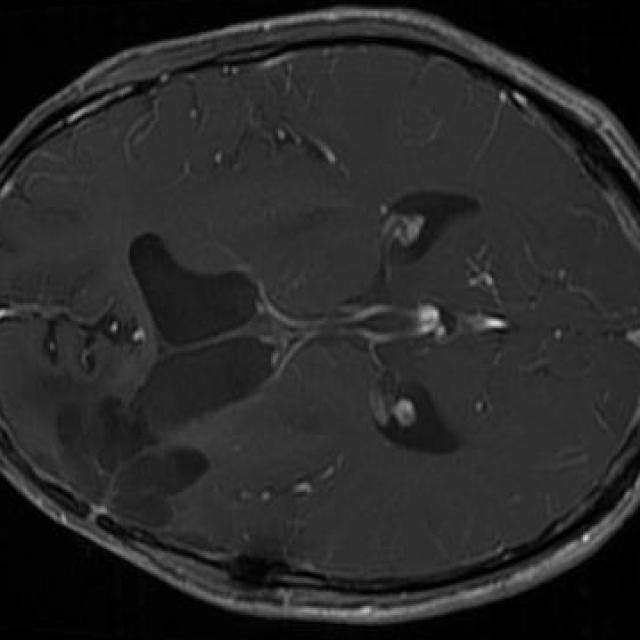glioma: (57, 396, 210, 526)
